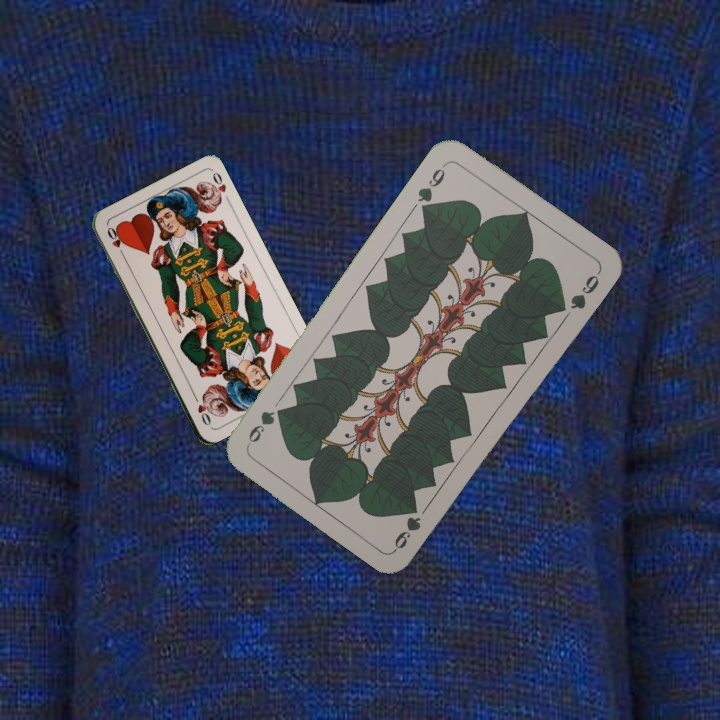G9: (413, 159, 449, 216), (390, 513, 424, 552)
HO: (103, 223, 127, 260)
